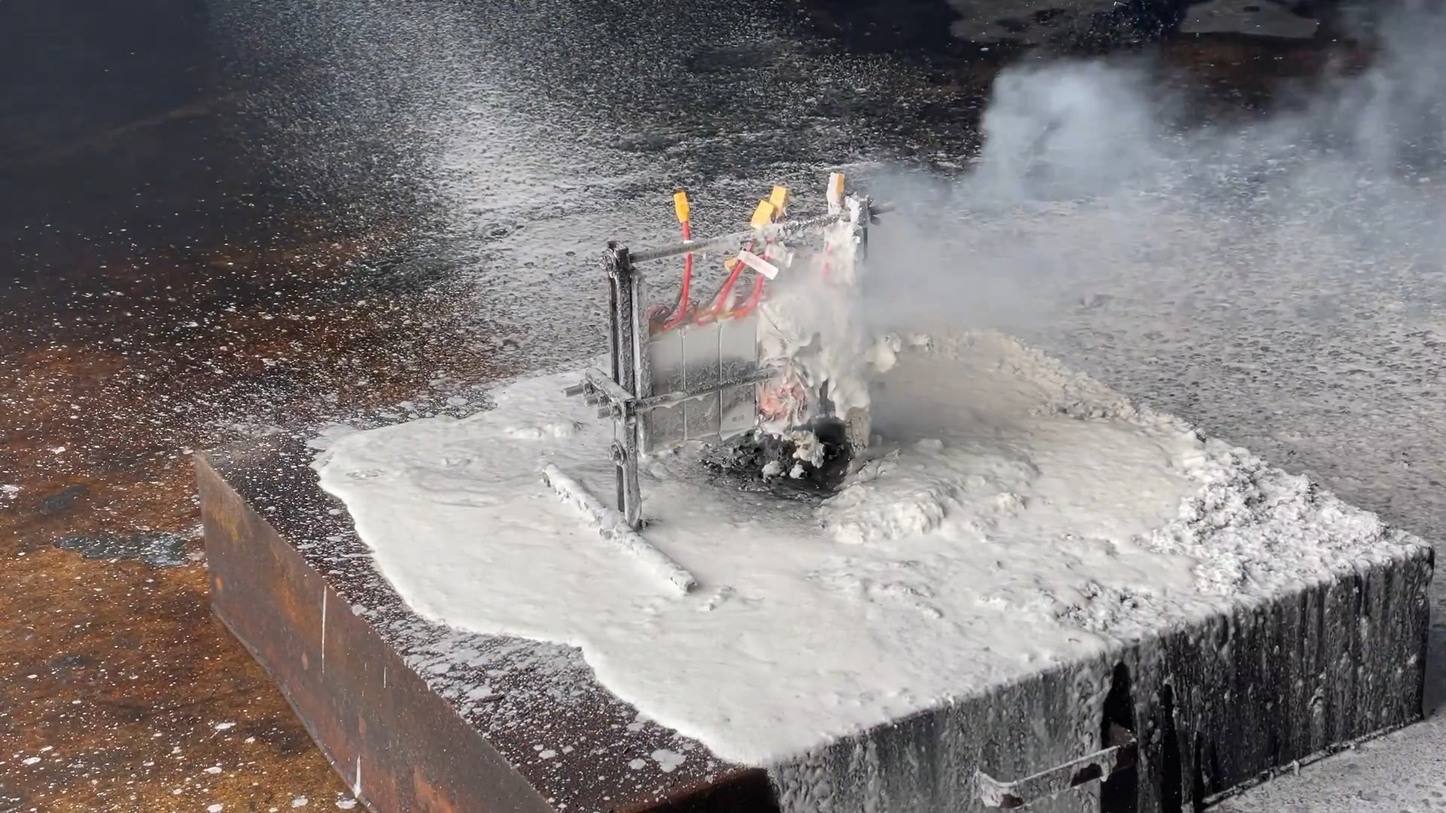smoke: (795, 21, 1445, 403)
